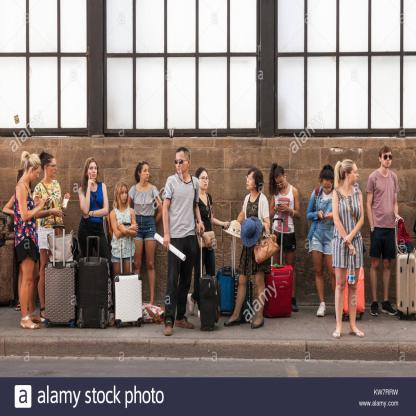Not_Wearing_Mask: (199, 173, 211, 190), (30, 162, 39, 183), (87, 162, 97, 180), (141, 165, 151, 183), (321, 180, 331, 198), (382, 151, 392, 169), (49, 158, 58, 178), (276, 175, 287, 191), (245, 172, 253, 190), (120, 189, 127, 203)
